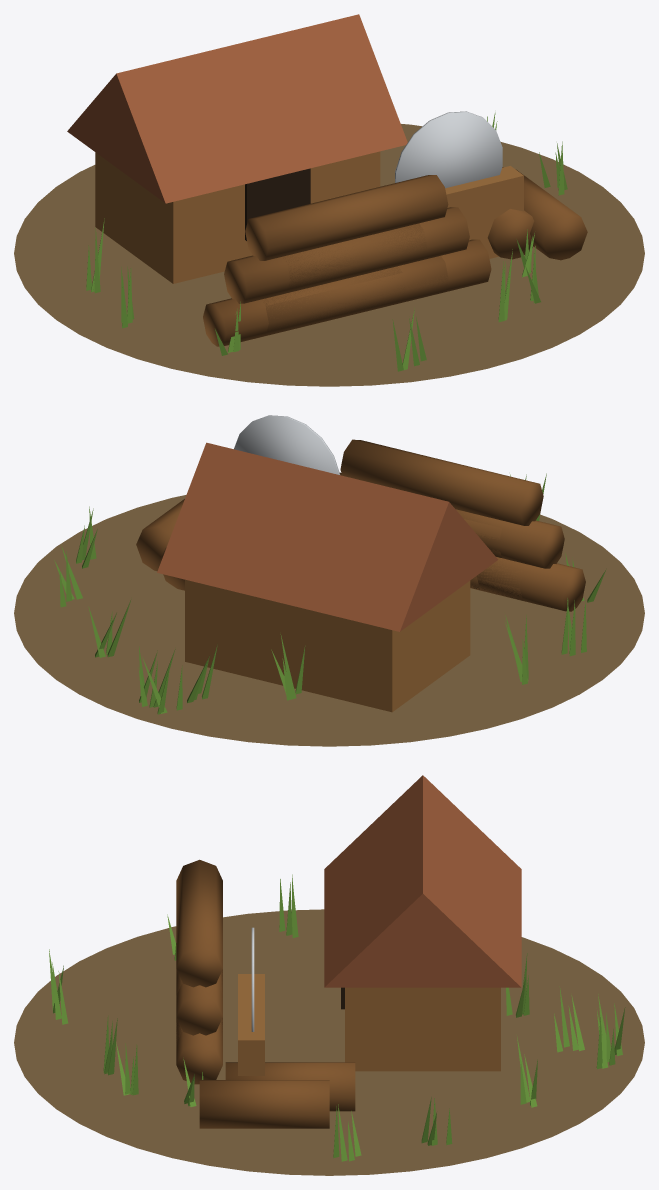
File: improvement_lumber_mill.fbx
The picture shows the model from 3 angles, top to bottom: view 1: azimuth 30°, elevation 25°; view 2: azimuth 150°, elevation 25°; view 3: azimuth 270°, elevation 25°; orthographic projection.
Parts seen in each view (by area): view 1: improvement_lumber_mill_gpatch#7a6240r_00, improvement_lumber_mill_shingle_03, improvement_lumber_mill_wood#7a5028_06, improvement_lumber_mill_wood#9a6a38.003_02, improvement_lumber_mill_sawm_05, improvement_lumber_mill_leaf#6a9a3a.003_01, improvement_lumber_mill_lmwin_04; view 2: improvement_lumber_mill_gpatch#7a6240r_00, improvement_lumber_mill_shingle_03, improvement_lumber_mill_wood#9a6a38.003_02, improvement_lumber_mill_wood#7a5028_06, improvement_lumber_mill_leaf#6a9a3a.003_01, improvement_lumber_mill_sawm_05; view 3: improvement_lumber_mill_gpatch#7a6240r_00, improvement_lumber_mill_shingle_03, improvement_lumber_mill_wood#7a5028_06, improvement_lumber_mill_wood#9a6a38.003_02, improvement_lumber_mill_leaf#6a9a3a.003_01.
Part boxes in pixels (left/top/right/bottom): improvement_lumber_mill_gpatch#7a6240r_00: left=14, top=124, right=644, bottom=386; improvement_lumber_mill_shingle_03: left=67, top=14, right=407, bottom=203; improvement_lumber_mill_wood#7a5028_06: left=203, top=167, right=587, bottom=346; improvement_lumber_mill_wood#9a6a38.003_02: left=95, top=151, right=523, bottom=283; improvement_lumber_mill_sawm_05: left=395, top=111, right=502, bottom=188; improvement_lumber_mill_leaf#6a9a3a.003_01: left=86, top=112, right=567, bottom=371; improvement_lumber_mill_lmwin_04: left=245, top=168, right=310, bottom=240; improvement_lumber_mill_gpatch#7a6240r_00: left=14, top=495, right=644, bottom=746; improvement_lumber_mill_shingle_03: left=157, top=442, right=498, bottom=631; improvement_lumber_mill_wood#9a6a38.003_02: left=185, top=579, right=470, bottom=712; improvement_lumber_mill_wood#7a5028_06: left=136, top=439, right=585, bottom=611; improvement_lumber_mill_leaf#6a9a3a.003_01: left=54, top=473, right=606, bottom=714; improvement_lumber_mill_sawm_05: left=234, top=415, right=339, bottom=474; improvement_lumber_mill_gpatch#7a6240r_00: left=14, top=909, right=644, bottom=1175; improvement_lumber_mill_shingle_03: left=324, top=775, right=521, bottom=987; improvement_lumber_mill_wood#7a5028_06: left=176, top=859, right=355, bottom=1128; improvement_lumber_mill_wood#9a6a38.003_02: left=238, top=974, right=500, bottom=1075; improvement_lumber_mill_leaf#6a9a3a.003_01: left=49, top=874, right=625, bottom=1161.
Size of the model in its own units: 122 by 40.34 by 122.
